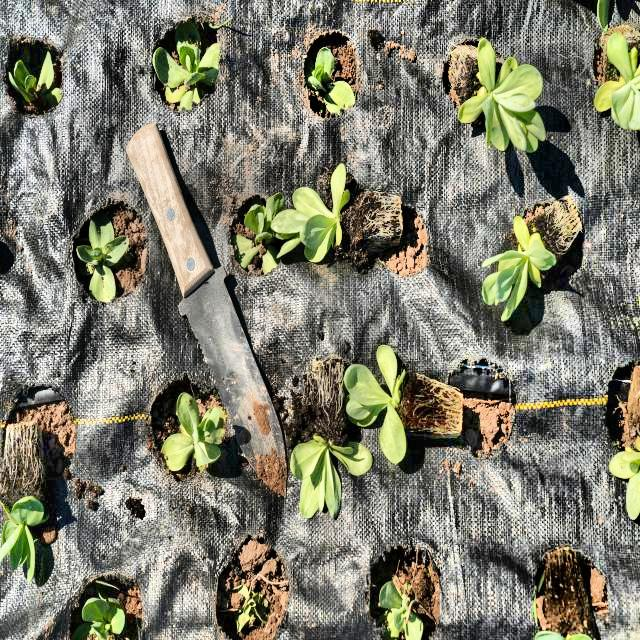knife: (127, 124, 289, 506)
